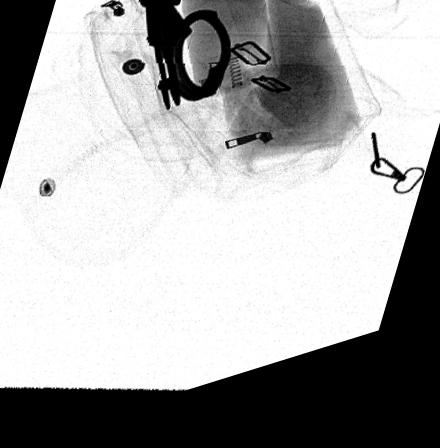HandCuffs: (137, 0, 231, 121)
